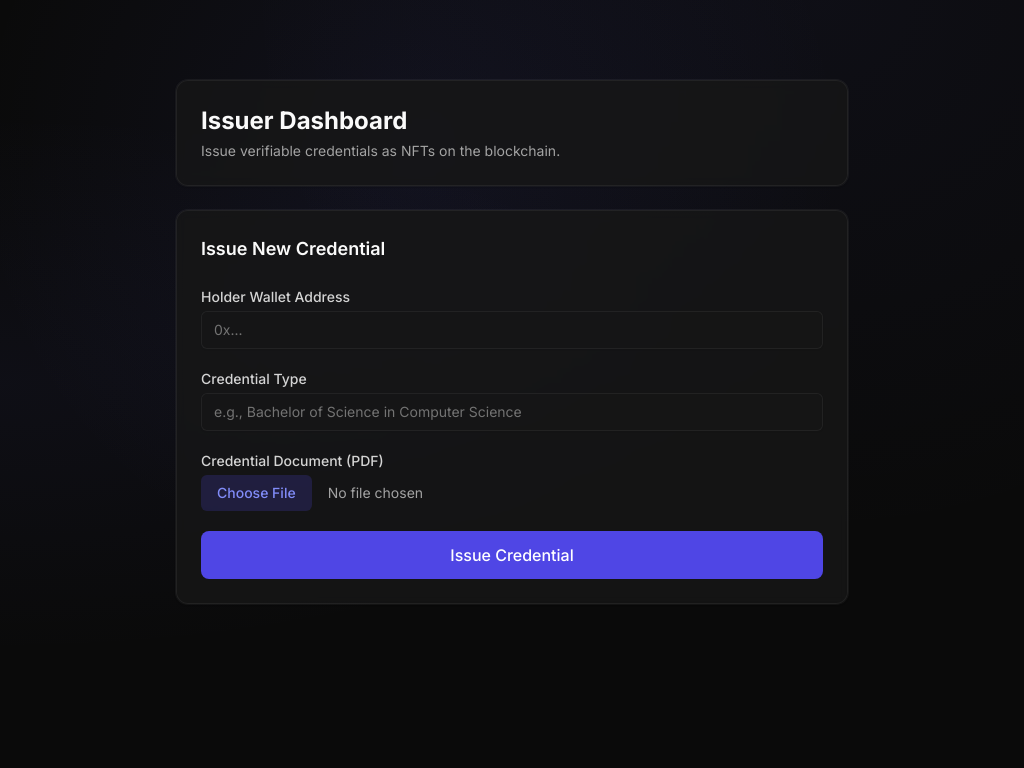
Test: IssuerDashboardPage › shows error when holder address is empty
Click the button "Issue Credential" at point(512, 555), box [201,531,823,579]
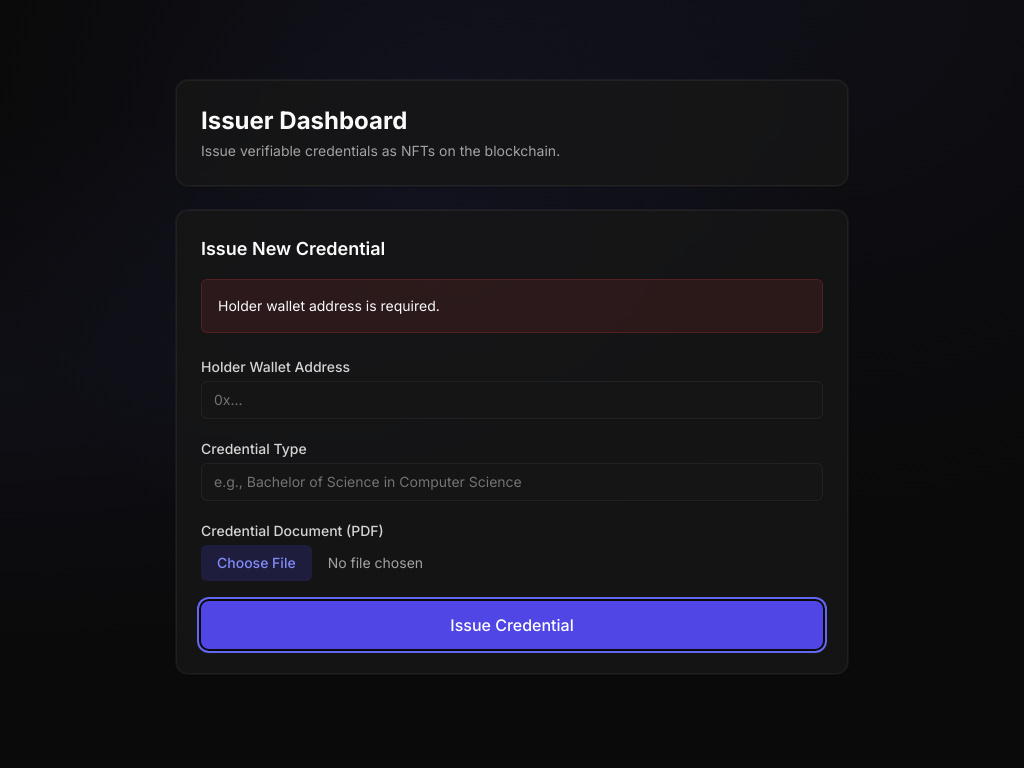
Check: the message reads "Holder wallet address is required.", box [218,297,440,314]
